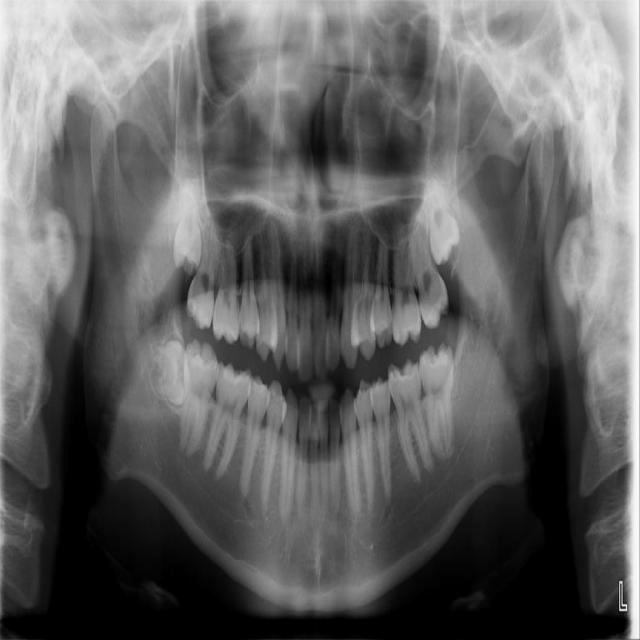impacted tooth: (424, 163, 458, 264), (139, 339, 187, 404), (175, 177, 203, 272)
